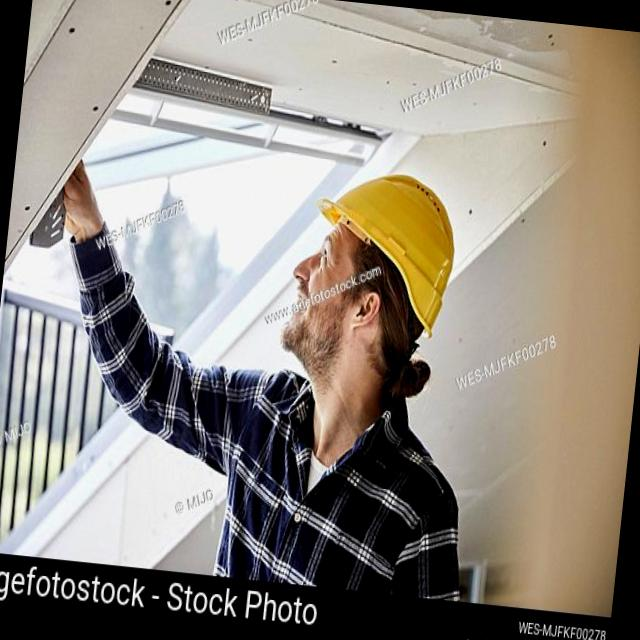helmet: (302, 164, 466, 346)
no-vest: (202, 350, 488, 600)
